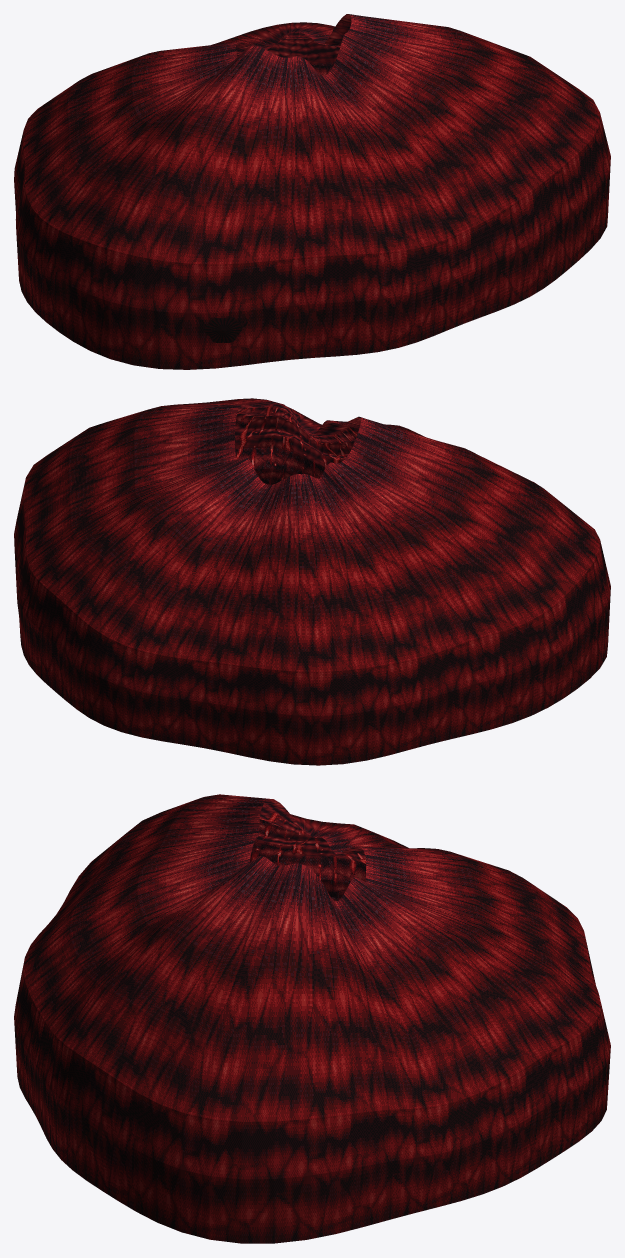
File: Stomach_Pilot_Chamber.glb
3 views of the same model, one above another, from view 1: azimuth 30°, elevation 25°; view 2: azimuth 150°, elevation 25°; view 3: azimuth 270°, elevation 25° (orthographic). The views are drawn at different scales.
Parts seen in each view (by area): view 1: Wall_Flesh_Back, Wall_Cutaway_Front, Sphincter_Entry; view 2: Wall_Cutaway_Front, Wall_Flesh_Back, Wall_Blood_Drips, Wall_Blood_Waves; view 3: Wall_Flesh_Back, Wall_Cutaway_Front, Wall_Blood_Drips.
Part boxes in pixels (x1=…): Wall_Flesh_Back: x1=16, y1=14, x2=610, y2=369; Wall_Cutaway_Front: x1=14, y1=22, x2=342, y2=217; Sphincter_Entry: x1=203, y1=309, x2=247, y2=342; Wall_Cutaway_Front: x1=17, y1=448, x2=472, y2=765; Wall_Flesh_Back: x1=14, y1=398, x2=610, y2=734; Wall_Blood_Drips: x1=238, y1=407, x2=354, y2=484; Wall_Blood_Waves: x1=236, y1=406, x2=357, y2=463; Wall_Flesh_Back: x1=14, y1=794, x2=415, y2=1243; Wall_Cutaway_Front: x1=326, y1=830, x2=610, y2=1212; Wall_Blood_Drips: x1=250, y1=816, x2=363, y2=886.
Size of the model in its own units: 31.01 by 12.44 by 25.91.
7 materials, 7 textured.
